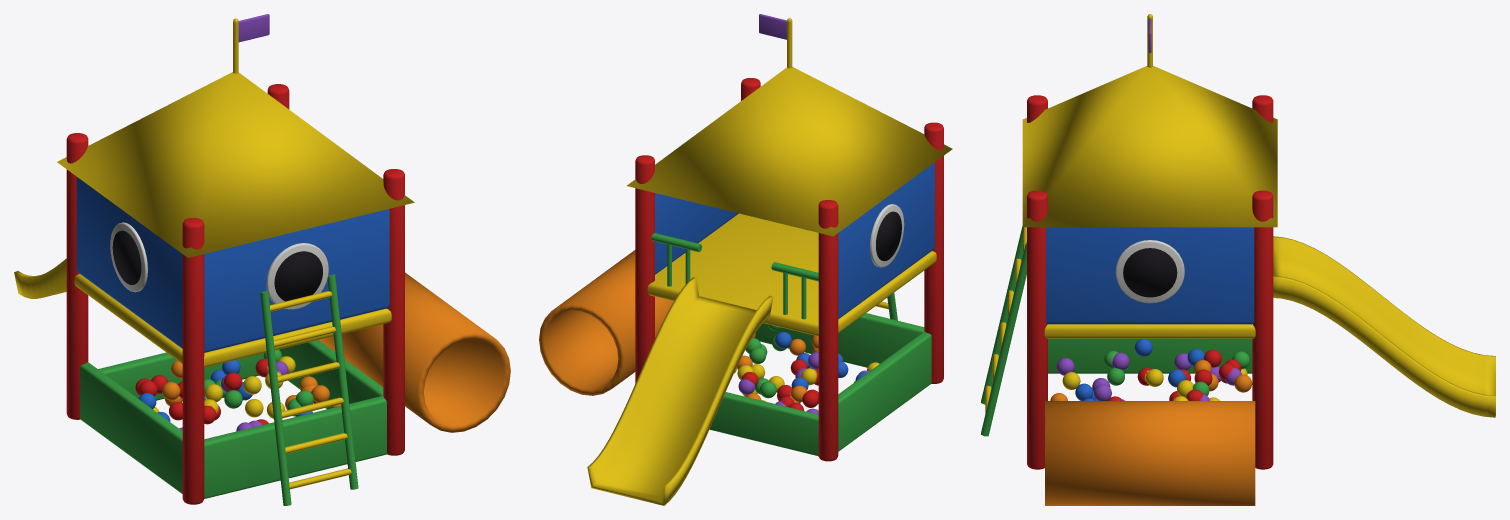
File: fun_house.glb
The picture shows the model from 3 angles, left to right: view 1: azimuth 30°, elevation 25°; view 2: azimuth 150°, elevation 25°; view 3: azimuth 270°, elevation 25°; orthographic projection. The views are drawn at different scales.
Visible parts, largest first — view 1: fun_house; view 2: fun_house; view 3: fun_house.
Boxes of the visible parts, x1=… form: fun_house: x1=14, y1=14, x2=510, y2=505; fun_house: x1=539, y1=14, x2=952, y2=505; fun_house: x1=981, y1=14, x2=1495, y2=505.
Size of the model in its own units: 2.5 by 2.98 by 3.43.
